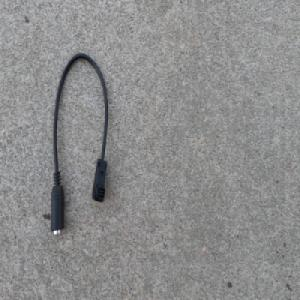Wire: (50, 51, 109, 242)
